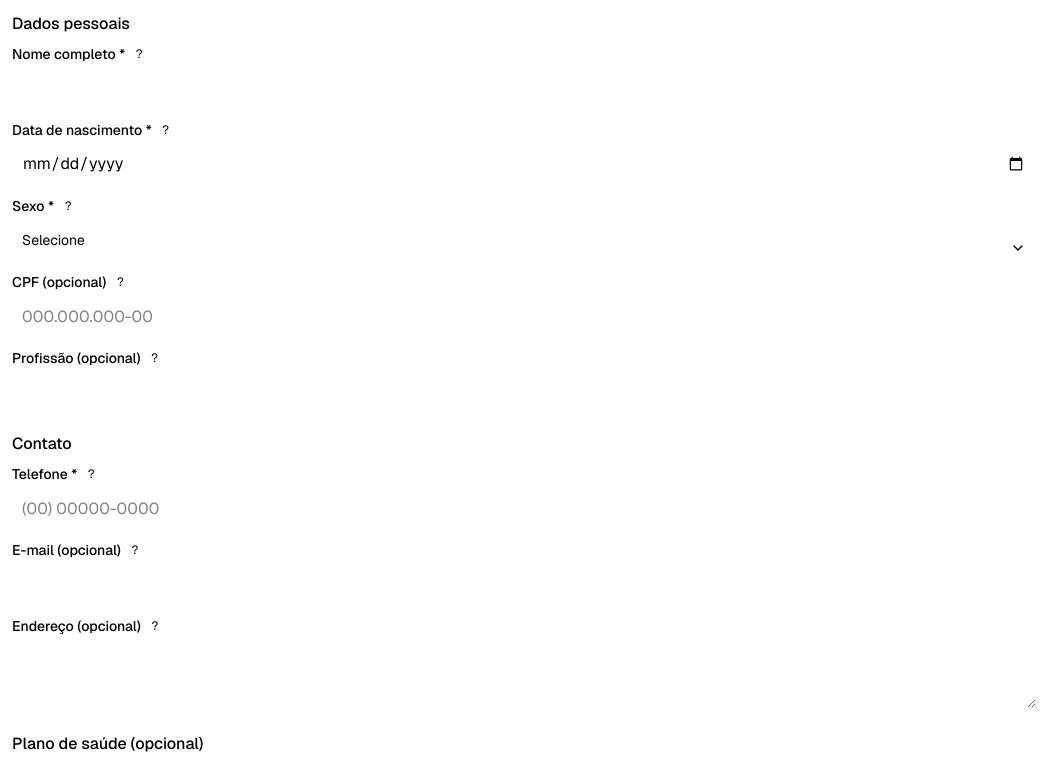
Test: PatientForm — máscaras de CPF e telefone › aplica a máscara enquanto digita
Type "11144477735" into the field labelled "CPF (opcional)".
click(524, 316); type("11144477735")  # box top-left (12, 300), bottom-right (1036, 332)
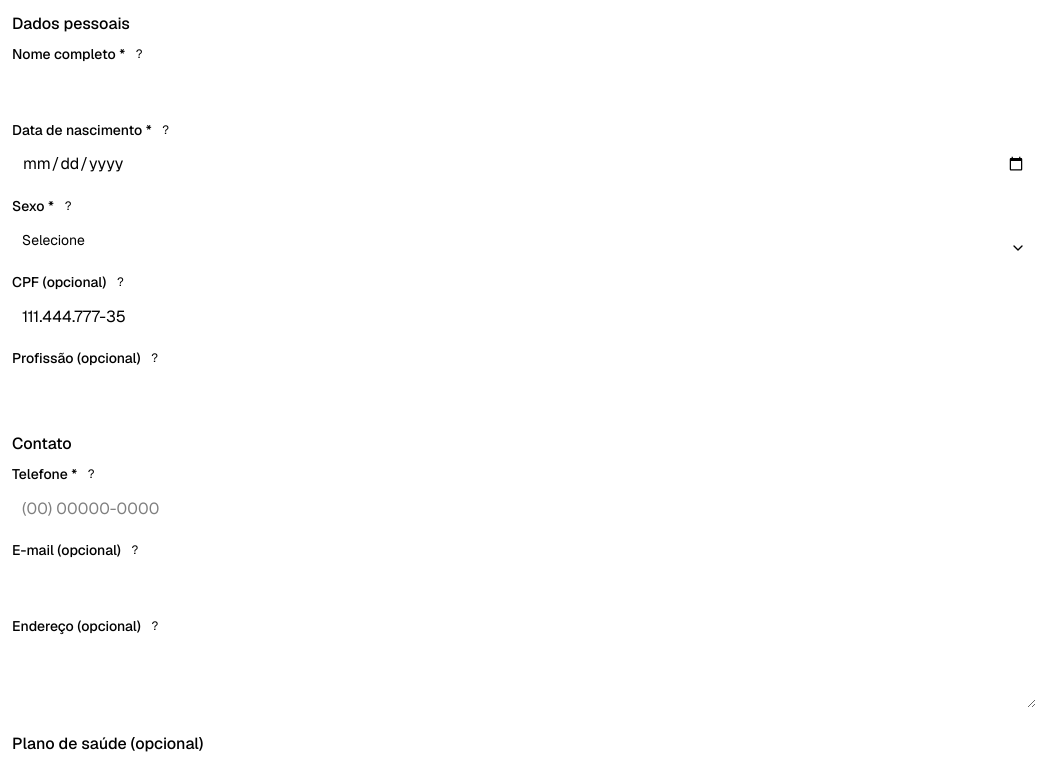
Type "11987654321" into the field labelled "Telefone *".
click(524, 508); type("11987654321")  # box top-left (12, 492), bottom-right (1036, 524)
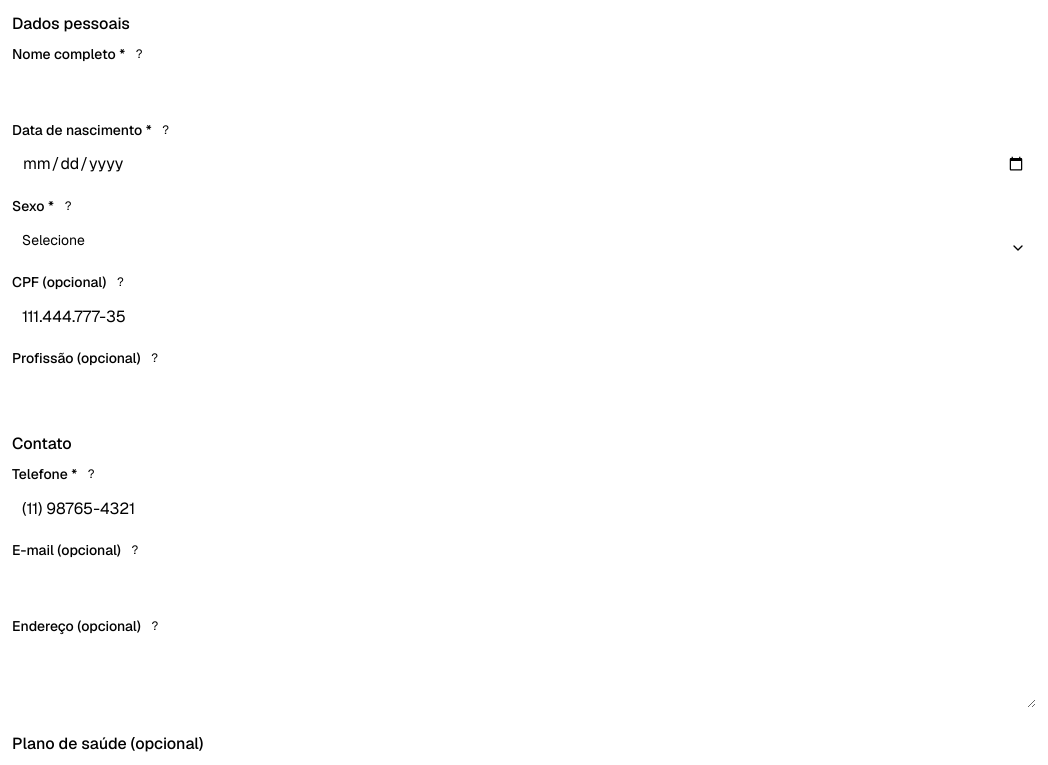
Check: the field labelled "CPF (opcional)" holds "111.444.777-35", box top-left (12, 300), bottom-right (1036, 332)
Check: the field labelled "Telefone *" holds "(11) 98765-4321", box top-left (12, 492), bottom-right (1036, 524)
